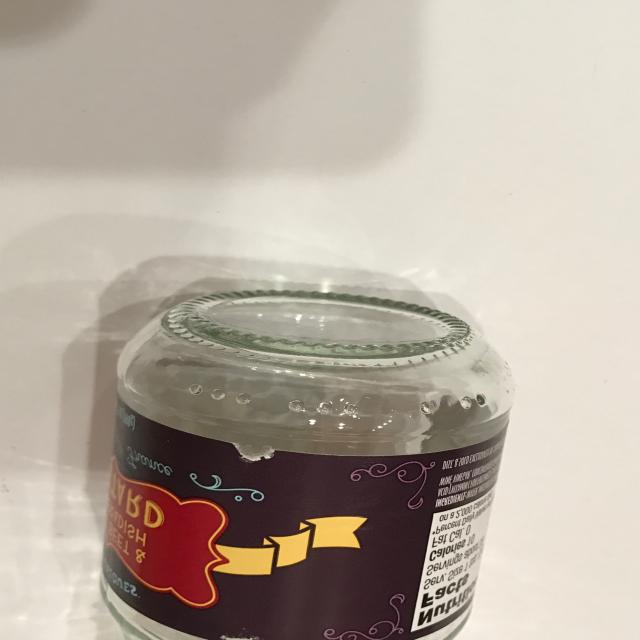glass: (87, 282, 522, 640)
